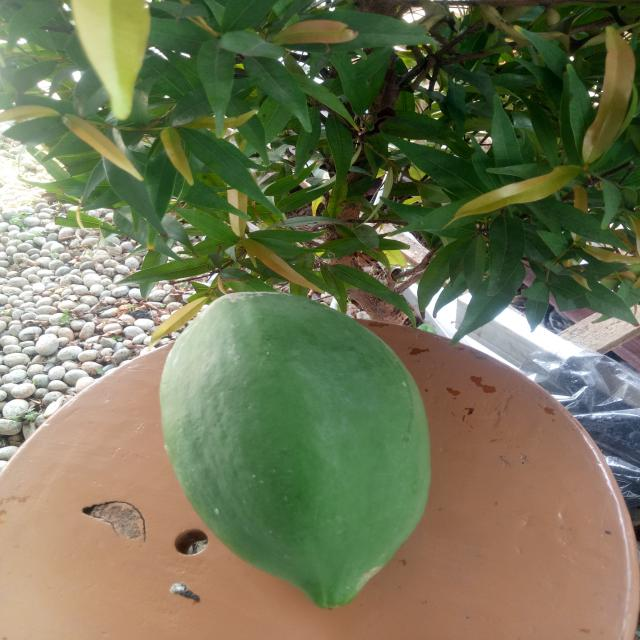Pepaya unrippen: (160, 273, 435, 611)
